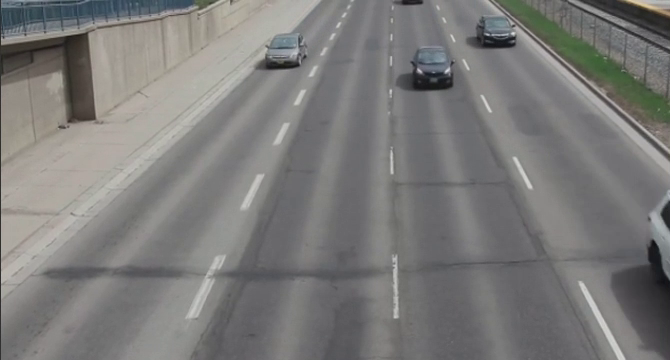car: (408, 40, 460, 93), (262, 28, 309, 70), (474, 14, 520, 51)
